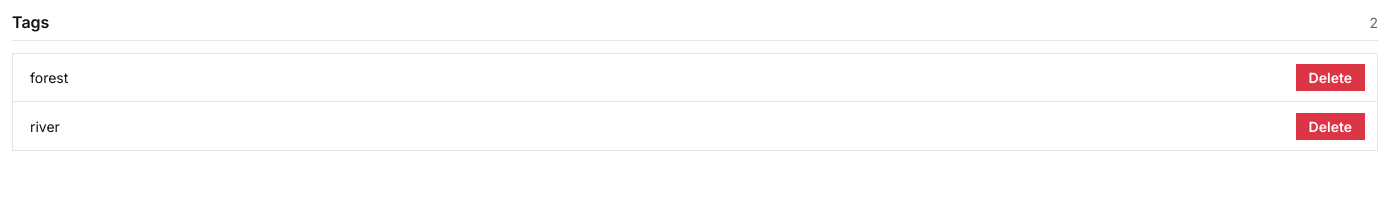
MetadataList › does not revalidate when the rename PUT resolves null
Replace the text in the 1st field with "woods": (656, 78) x1=25 y1=64 x2=1288 y2=91
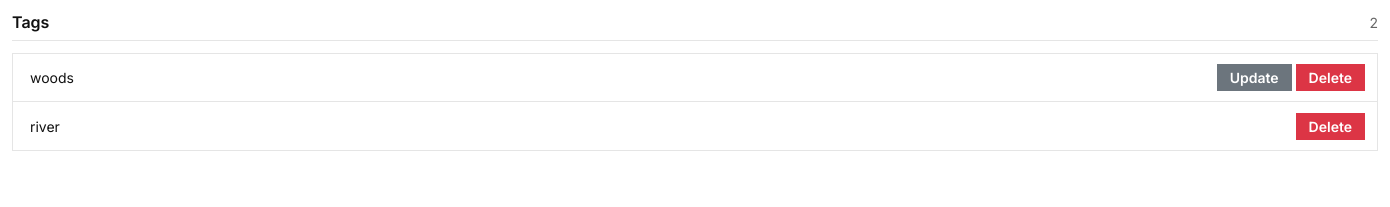
Click the button "Update": click(1254, 78) x1=1217 y1=64 x2=1292 y2=91
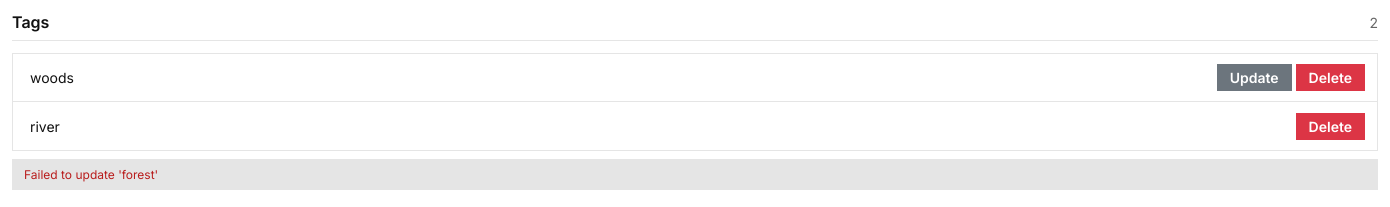
Check: the text "Failed to update 'forest'" is shown, box x1=12 y1=159 x2=1378 y2=190
